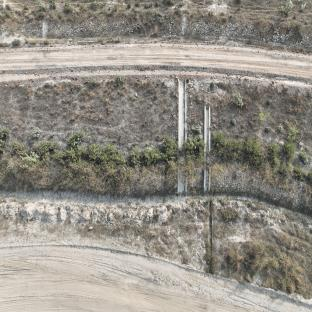rock_toe: (0, 159, 176, 195), (212, 162, 312, 213), (189, 16, 312, 54), (14, 11, 180, 38), (188, 162, 203, 192)
slope_drain: (176, 78, 187, 195), (203, 105, 210, 192), (209, 200, 214, 277)
toe_drain: (0, 191, 312, 224)
vegetation: (7, 135, 178, 181), (211, 134, 312, 183), (187, 127, 203, 170)
